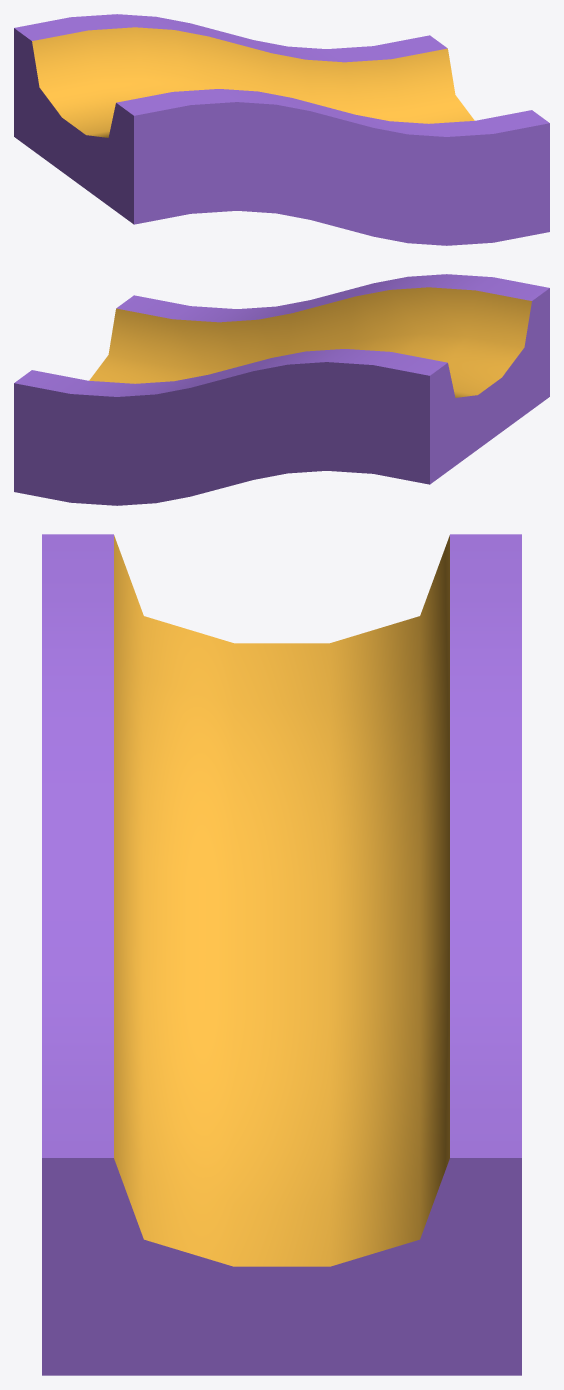
File: ramp-long-b-col.glb
3 renders of one model, top to bottom at view 1: azimuth 30°, elevation 25°; view 2: azimuth 150°, elevation 25°; view 3: azimuth 270°, elevation 25°, orthographic. The views are drawn at different scales.
Visible parts, largest first — view 1: ramp-long-b-col; view 2: ramp-long-b-col; view 3: ramp-long-b-col.
Part boxes in pixels (bbox=[...]): ramp-long-b-col: bbox=[14, 14, 549, 245]; ramp-long-b-col: bbox=[14, 274, 549, 505]; ramp-long-b-col: bbox=[42, 534, 521, 1375].
Size of the model in its own units: 2 by 1 by 1.
Materials: 1 (1 with a texture image).
